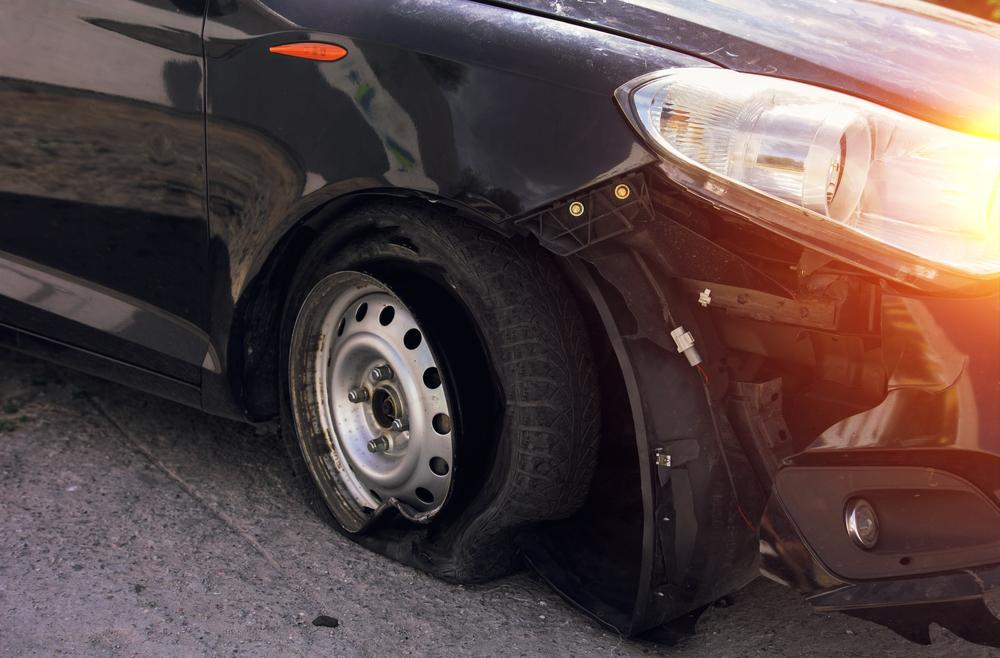tire flat: (282, 197, 597, 583)
